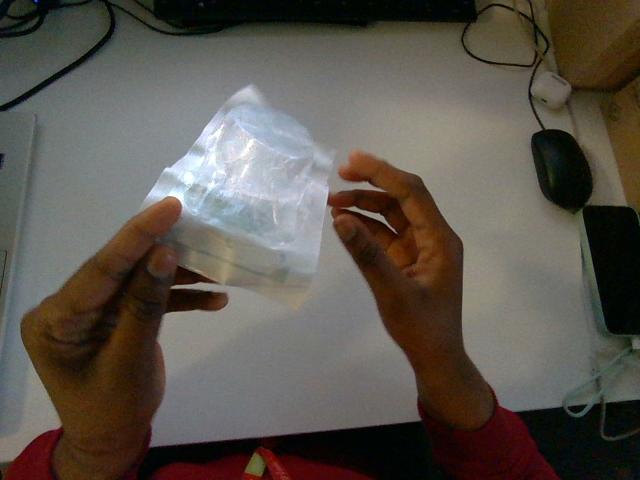gallipot: (142, 86, 331, 306)
